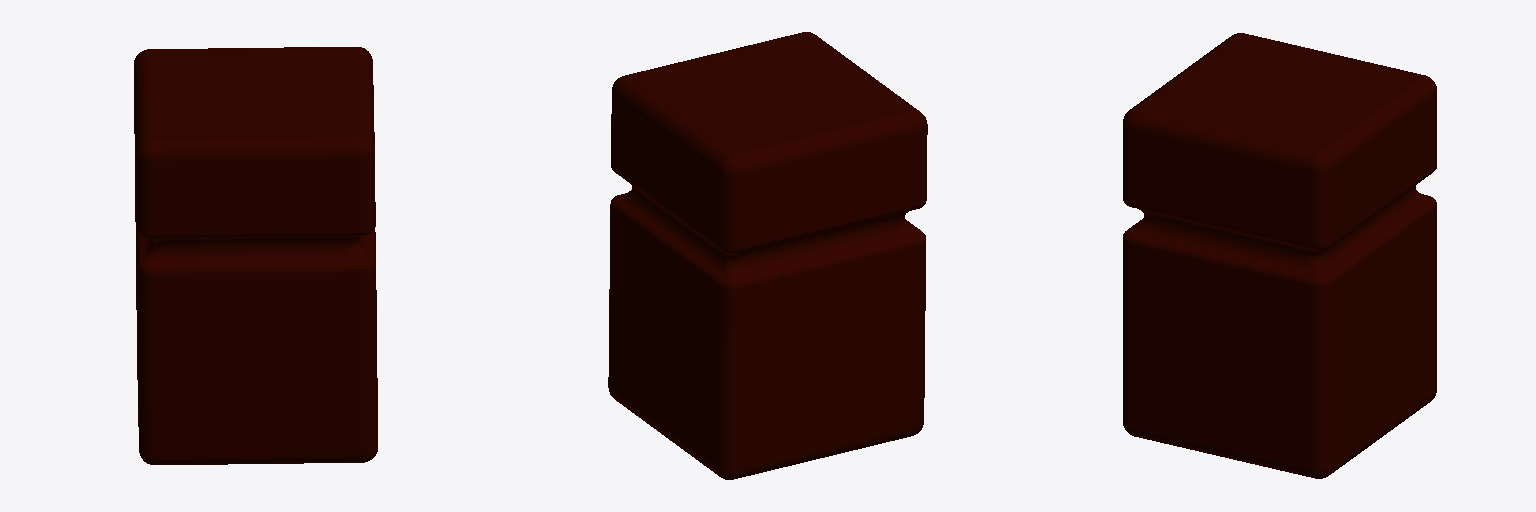
Rendered from petit-carree-marron.obj.
The picture shows the model from 3 angles: view 1: azimuth 30°, elevation 25°; view 2: azimuth 150°, elevation 25°; view 3: azimuth 270°, elevation 25°; orthographic projection.
Parts seen in each view (by area): view 1: quarto-pieces.004; view 2: quarto-pieces.004; view 3: quarto-pieces.004.
Boxes of the visible parts, x1=… form: quarto-pieces.004: x1=134, y1=47, x2=377, y2=464; quarto-pieces.004: x1=608, y1=32, x2=927, y2=479; quarto-pieces.004: x1=1123, y1=33, x2=1436, y2=478.
Bounding box in the file's own units: 39.9 × 45.42 × 39.43.